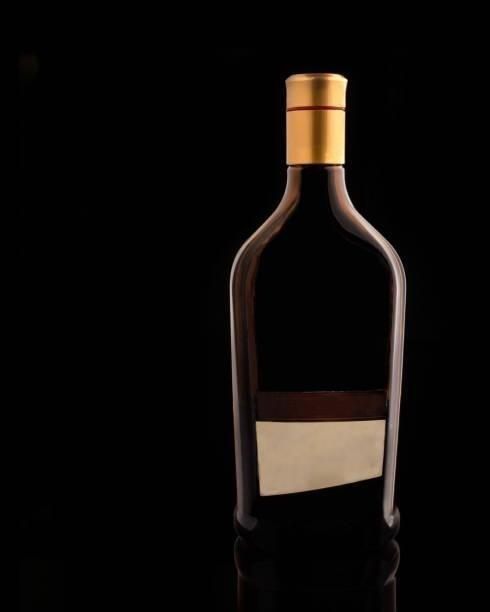bottle-glass: (224, 67, 411, 612)
